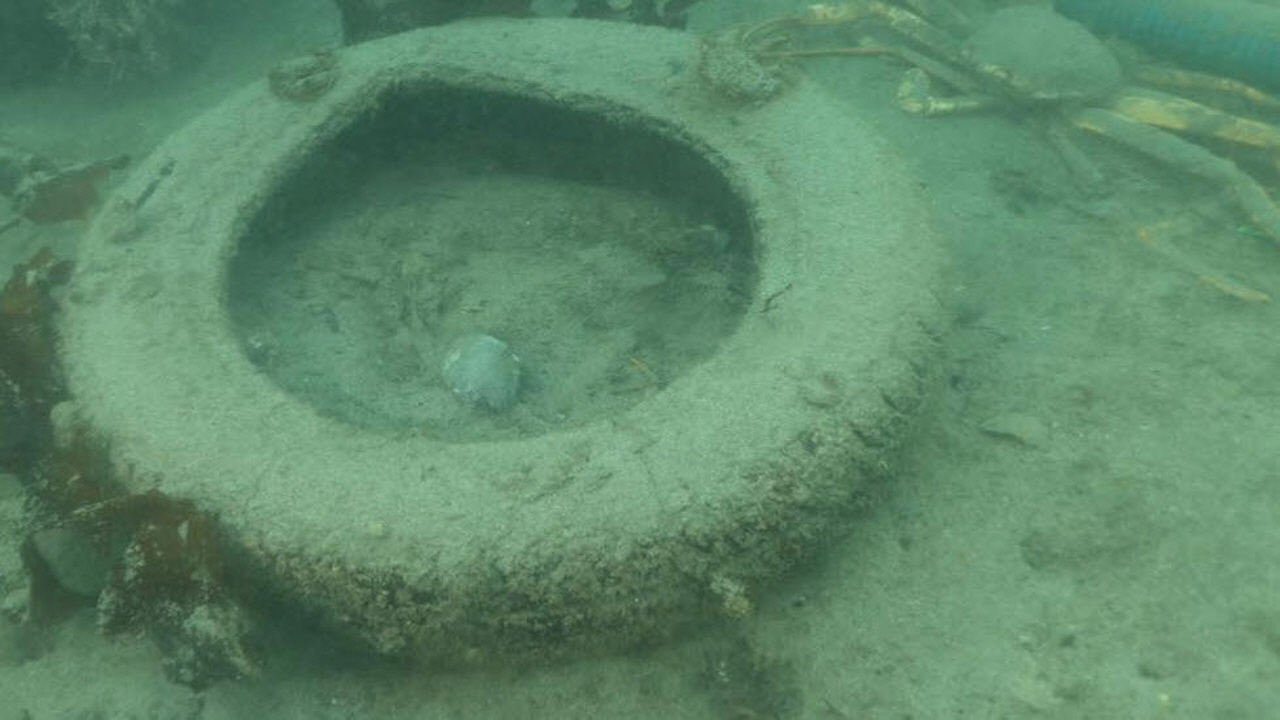tire: (54, 14, 957, 662)
